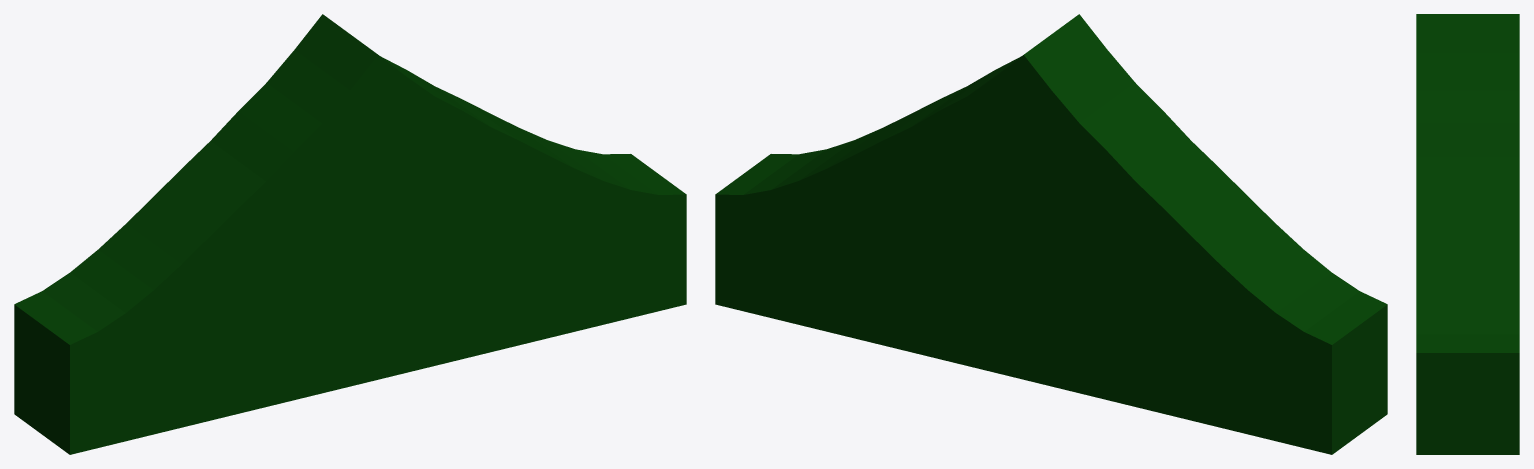
The model's file is track.obj.
The picture shows the model from 3 angles, left to right: view 1: azimuth 30°, elevation 25°; view 2: azimuth 150°, elevation 25°; view 3: azimuth 270°, elevation 25°; orthographic projection. The views are drawn at different scales.
Parts seen in each view (by area): view 1: Track; view 2: Track; view 3: Track.
Part boxes in pixels (x1,y1,x2,y2): Track: (14,14,686,454); Track: (715,14,1387,454); Track: (1416,14,1519,454).
Size of the model in its own units: 0.825 by 0.4153 by 0.129.
